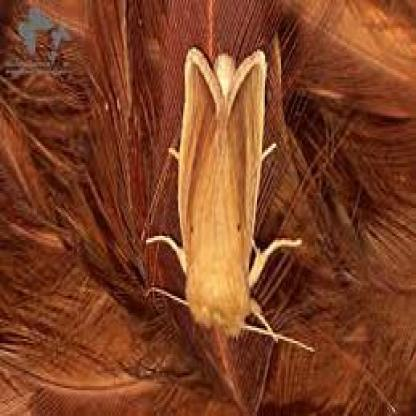stem-borer: (168, 42, 272, 344)
